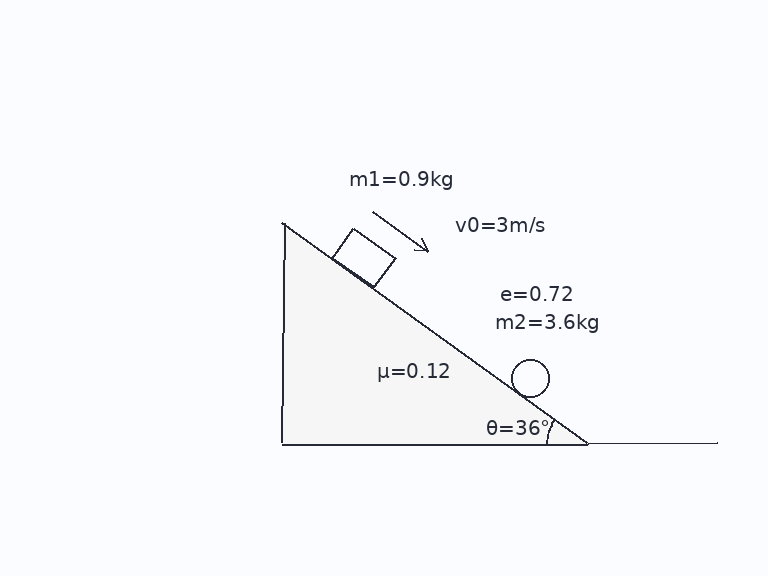ball: (509, 357, 551, 399)
block: (330, 225, 397, 290)
ramp: (281, 220, 589, 445)
